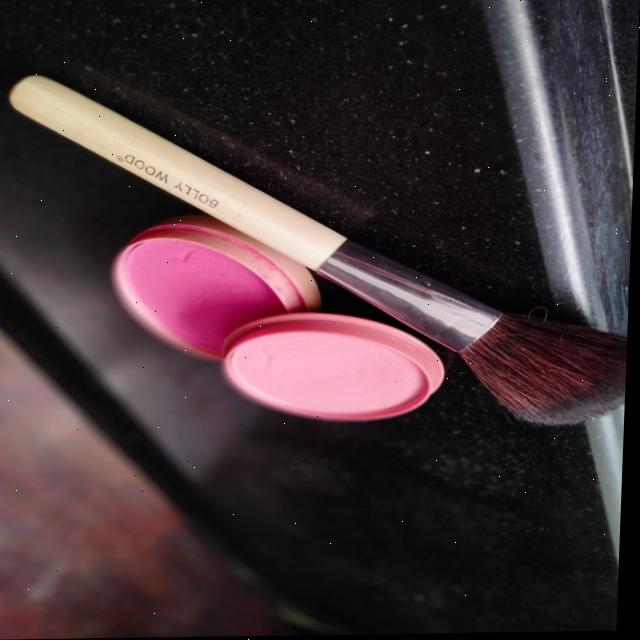blush: (93, 221, 455, 433)
brush: (452, 288, 631, 459)
